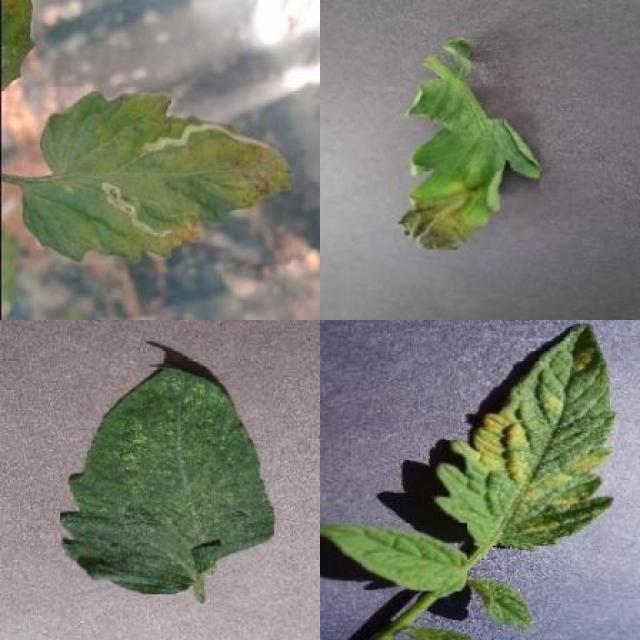Healthy: (320, 522, 467, 592)
Late Blight: (398, 79, 541, 250)
Leaf Miner: (18, 88, 292, 265)
Leaf Mold: (435, 324, 615, 546)
Spider Mites: (59, 366, 274, 594)
